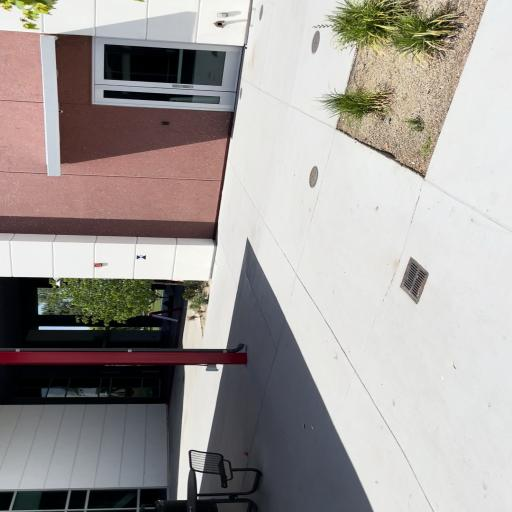target2: (137, 255, 146, 260)
